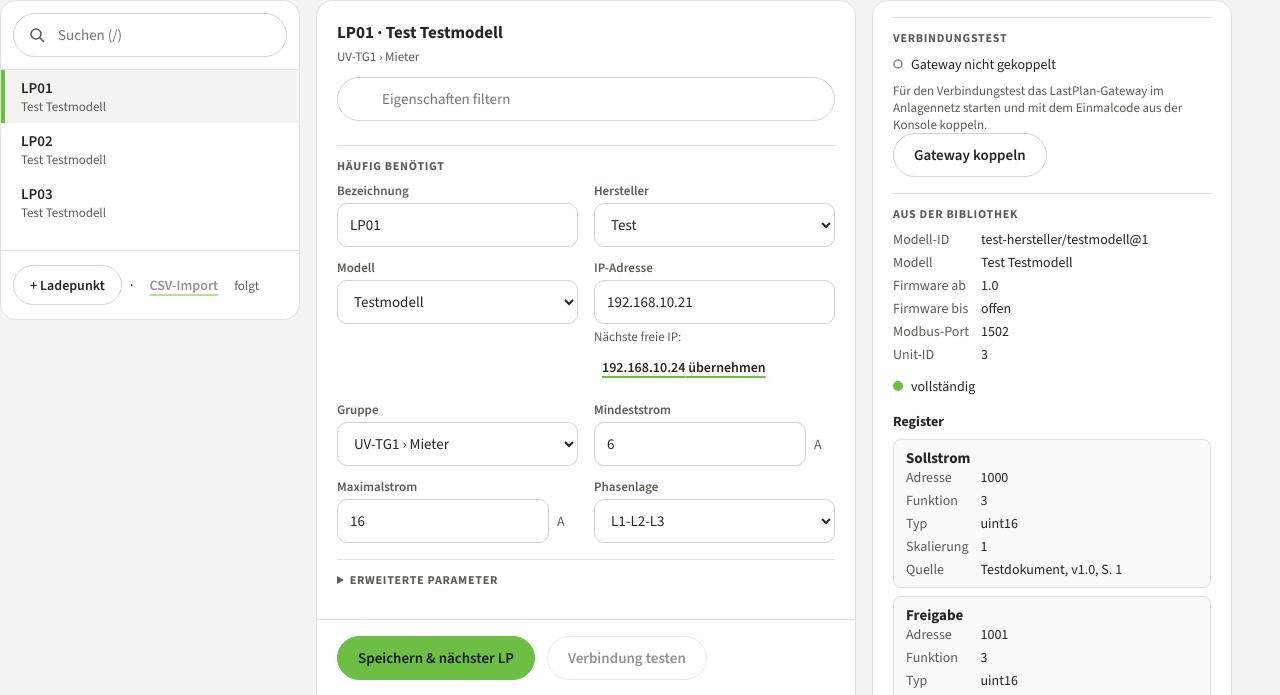
Gateway koppeln › ohne Kopplung: Hinweis, Button gesperrt; Koppeln speichert Token nur in der Sitzung
This screenshot has width=1280, height=695.
Expected: the button "Verbindung testen" is disabled, [547,636,707,680]
Expected: the text "Gateway nicht gekoppelt" is shown, [893,54,1056,74]
Click the button "Gateway koppeln" at (970, 155), box [893,133,1047,177]
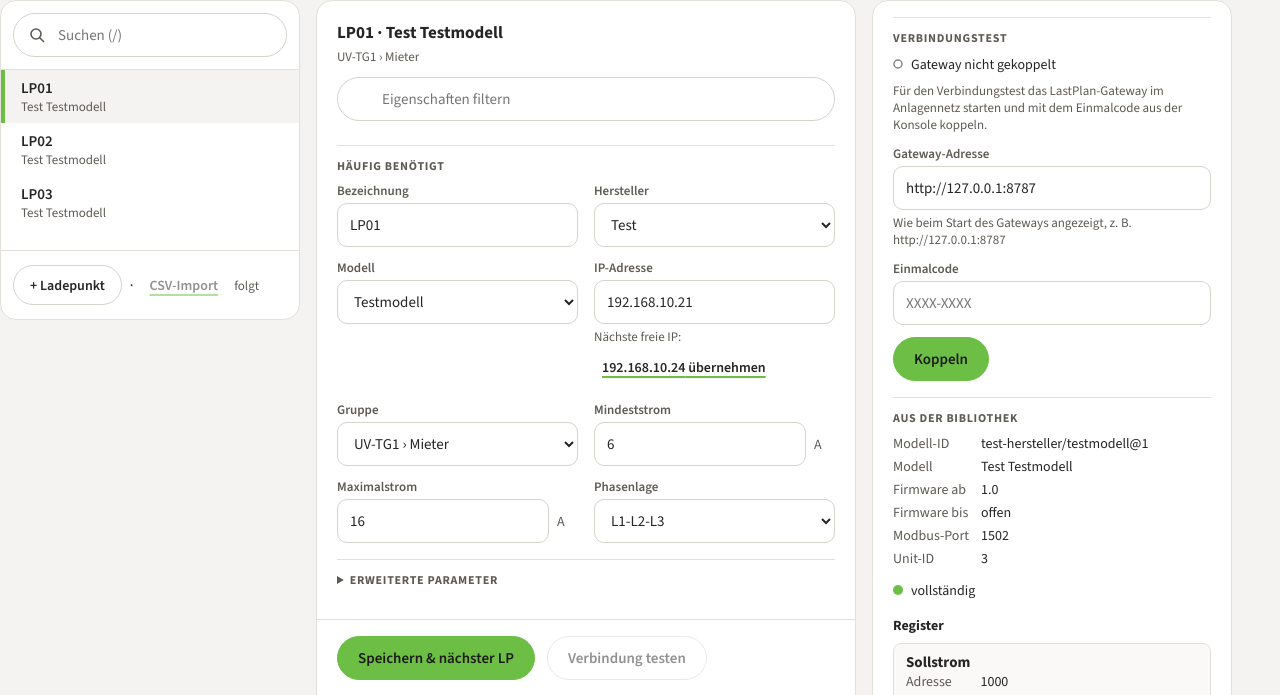
Type "abcd-2345" into the field labelled "Einmalcode" at (1052, 303), box [893,281,1211,325]
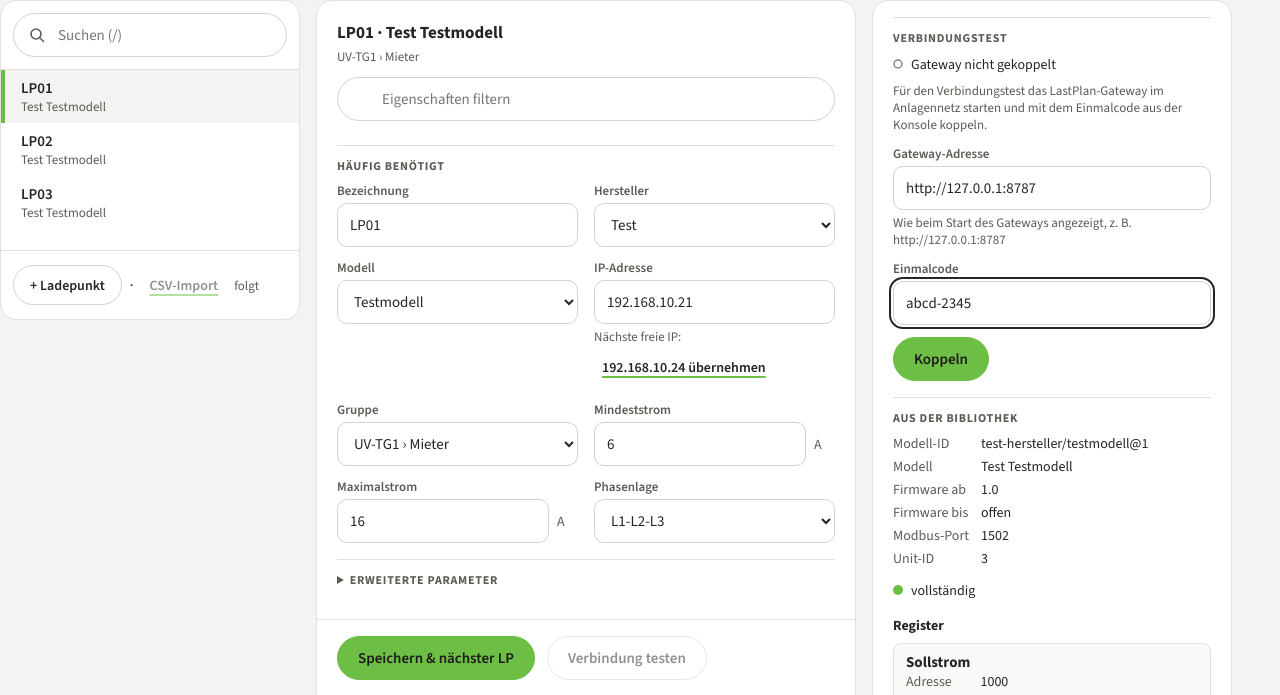
Click the button "Koppeln" at (941, 359), box [893,337,989,381]
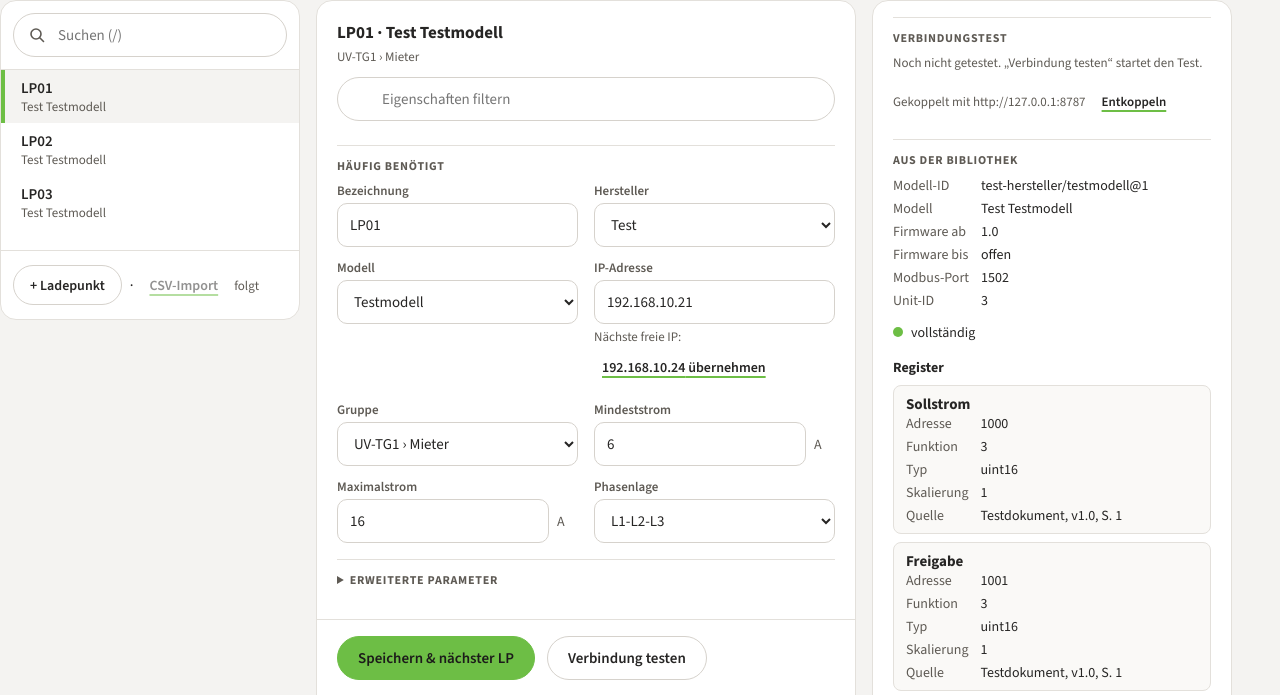
Expected: the text "Gekoppelt mit http://127.0.0.1:8787 Entkoppeln" is shown, [893,79,1211,123]
Expected: the button "Verbindung testen" is enabled, [547,636,707,680]
Click the button "Entkoppeln" at (1134, 101), box [1094,79,1174,123]
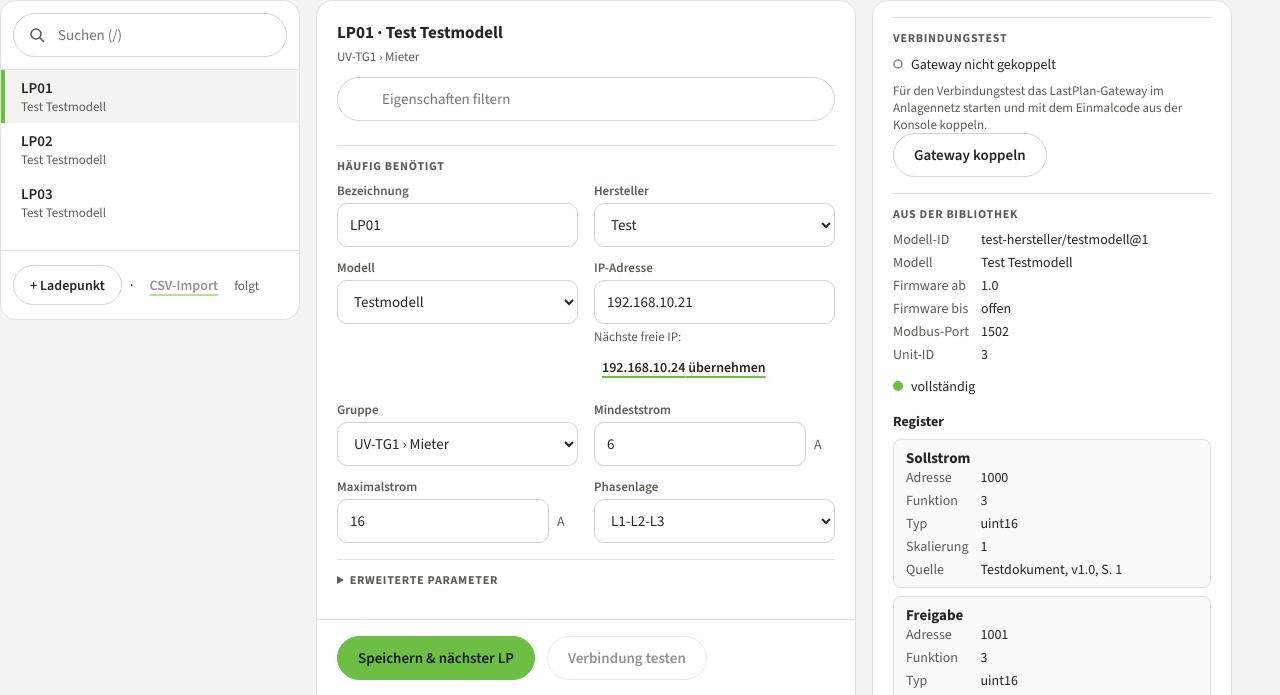
Expected: the text "Gateway nicht gekoppelt" is shown, [893,54,1056,74]
